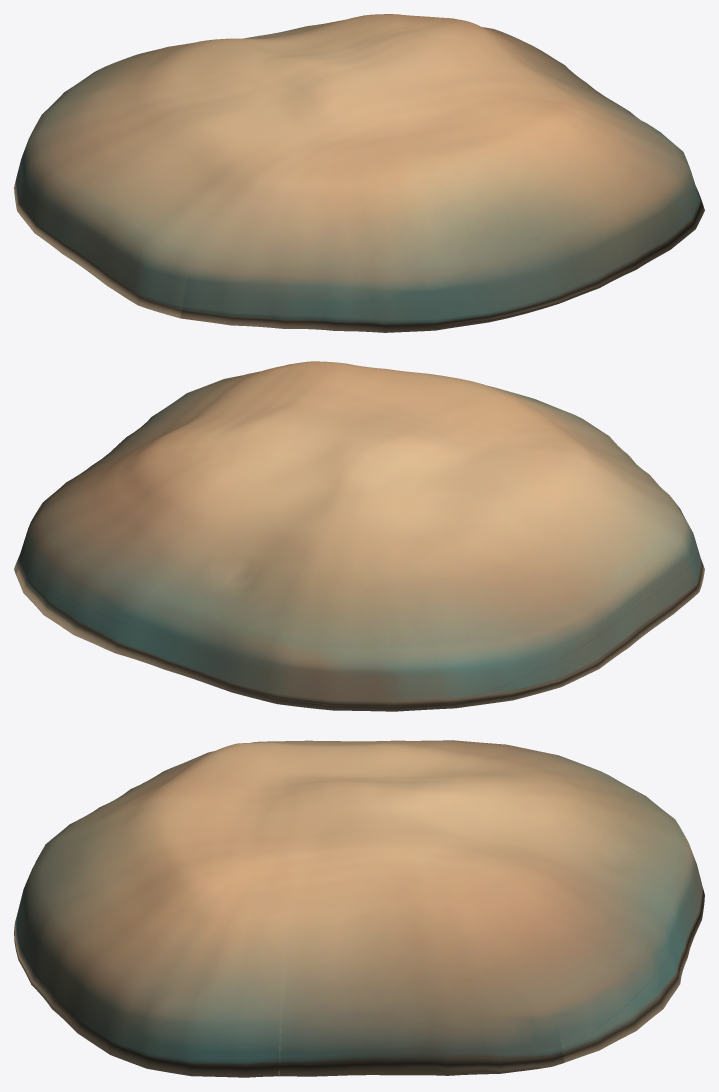
Rendered from Ada.fbx.
The picture shows the model from 3 angles, top to bottom: view 1: azimuth 30°, elevation 25°; view 2: azimuth 150°, elevation 25°; view 3: azimuth 270°, elevation 25°; orthographic projection. The views are drawn at different scales.
Parts seen in each view (by area): view 1: aDA; view 2: aDA; view 3: aDA.
Boxes of the visible parts, box(x1,y1,x2,y2) form: aDA: box(14, 14, 704, 332); aDA: box(14, 361, 704, 711); aDA: box(14, 740, 704, 1077).
Bounding box in the file's own units: 2782 × 618 × 2819.
1 material, 1 textured.
